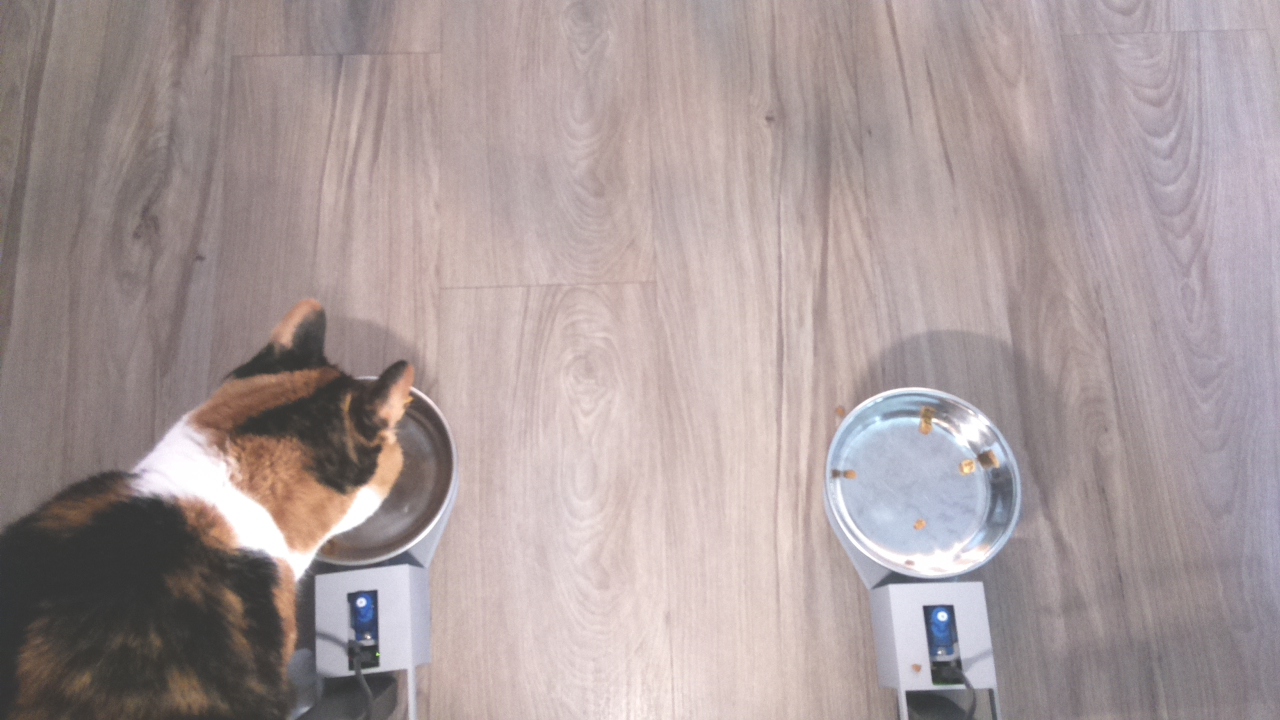bella_eating: (171, 278, 471, 572)
open_bowl: (815, 382, 1027, 584)
